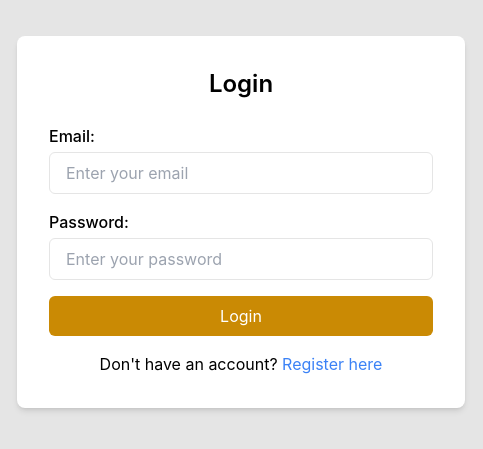
Auth Feature - Render and CRUD Tests › Login Functionality › should display error message on login failure
The width and height of the screenshot is (483, 449).
Type "test@example.com" into the field labelled "Email:" at (241, 173), box 49,152 -> 433,194
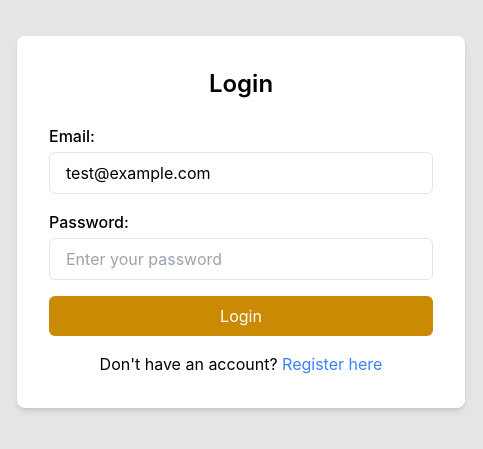
Type "wrongpassword" into the password field labelled "Password:" at (241, 259), box 49,238 -> 433,280
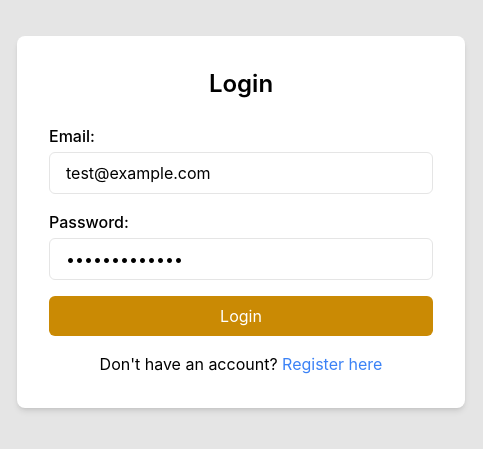
Click the button "Login" at (241, 316), box 49,296 -> 433,336
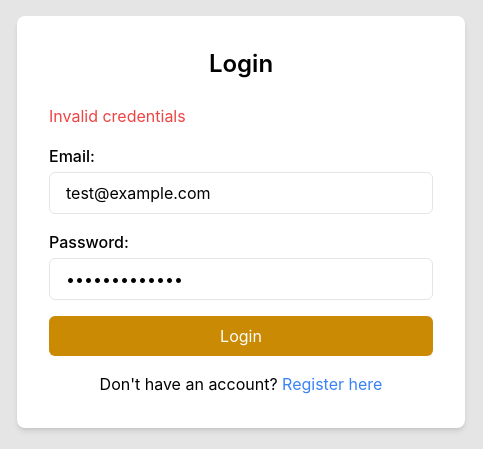
Expected: the message reads "Invalid credentials", 49,106 -> 186,126
